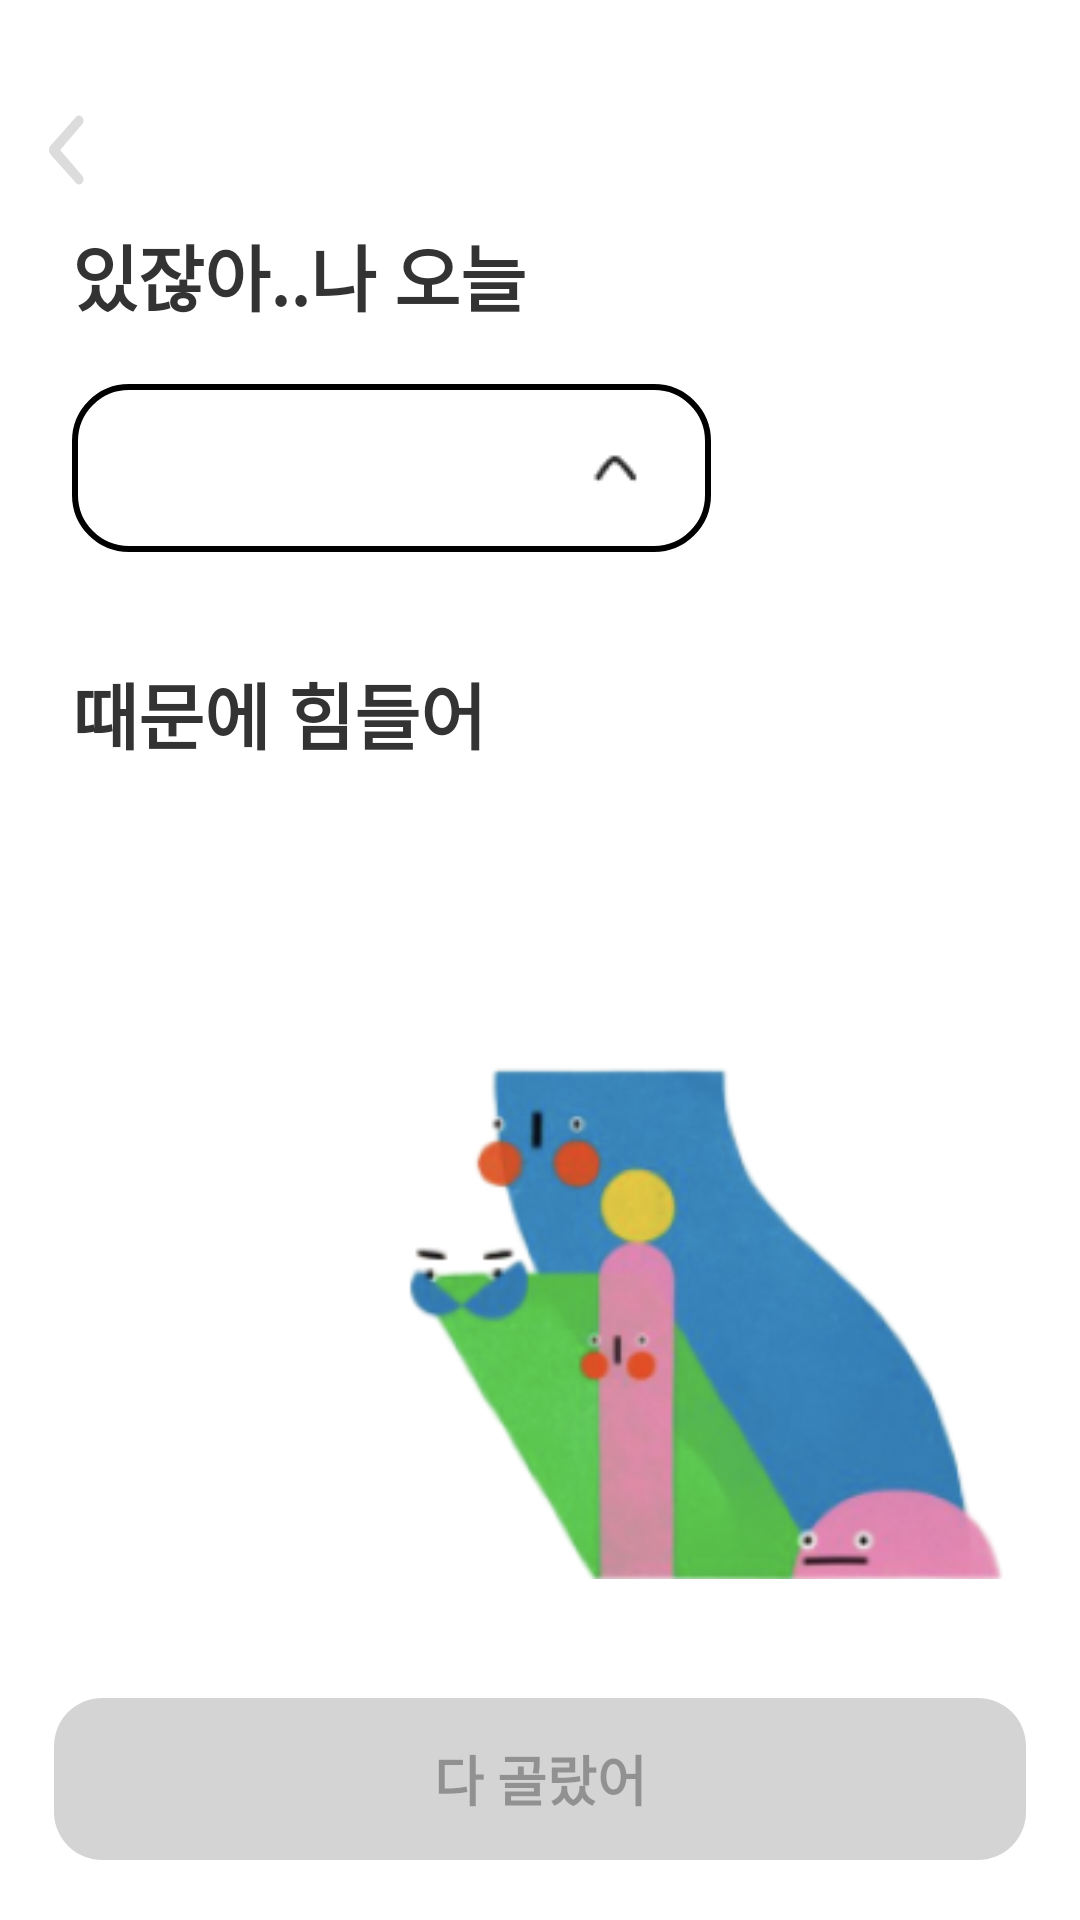

Screen size 1080px x 1920px. Icon name, then its center in pixels as point (x, y):
back: point (66, 150)
